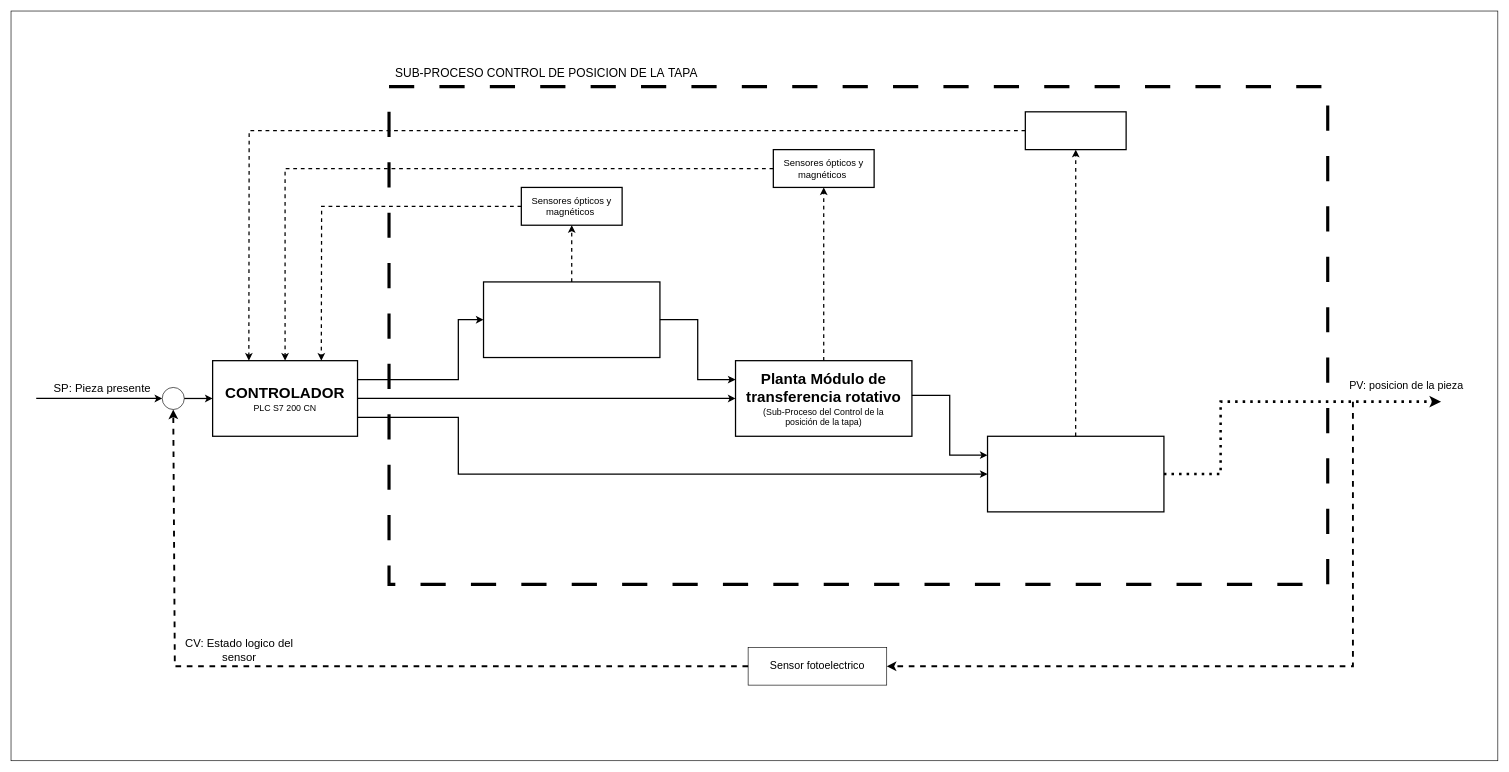
This 1509x772 diagram has some shape labels left out. The shapes that lost their labels are listed below. From the top down, each one's centre as x and y in pixels, then its label:
At point 1075,130: "Sensores magnéticos".
At point 571,319: "Planta de alimentacion (Sub-Proceso del Control de la posición de la tapa)".
At point 1075,473: "Planta Pinza neumática (Sub-Proceso del Control de la posición de la tapa)".
